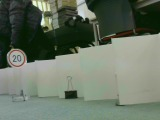speed_20: (5, 46, 27, 69)
